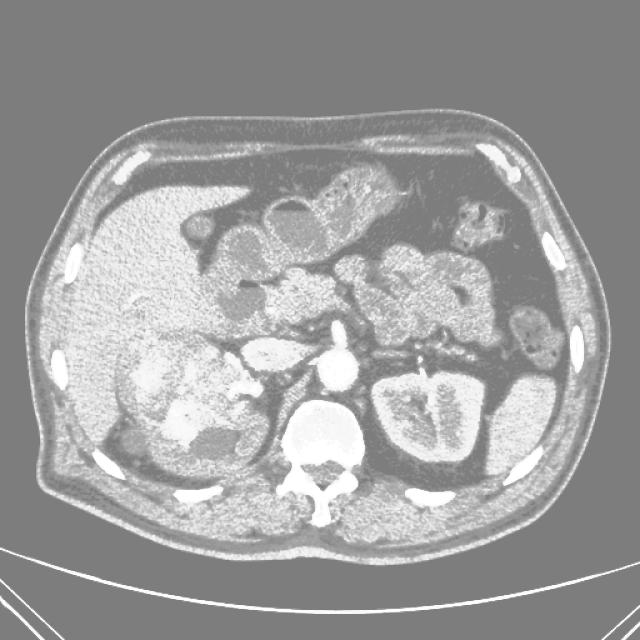TUMOR: (132, 343, 509, 493)
